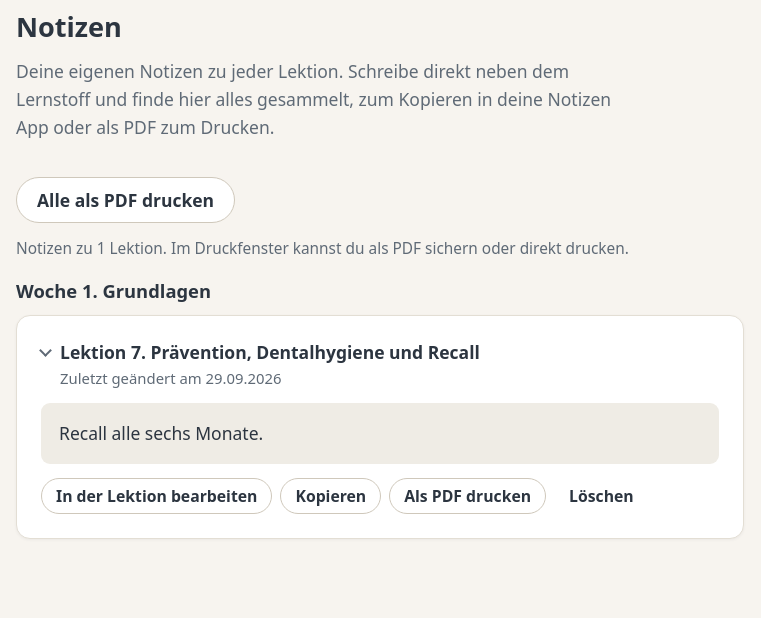
Test: notes page › copies a note as text for the notes apps
Click the button "Kopieren" at (331, 496), box x1=280 y1=478 x2=381 y2=514
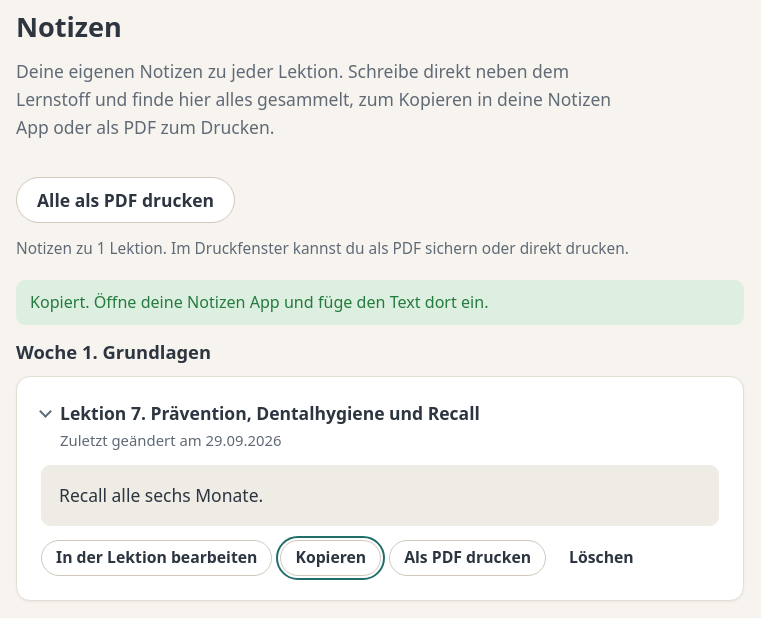
Now the text "Kopiert. Öffne deine Notizen App und füge den Text dort ein." is shown, box x1=16 y1=280 x2=744 y2=325
